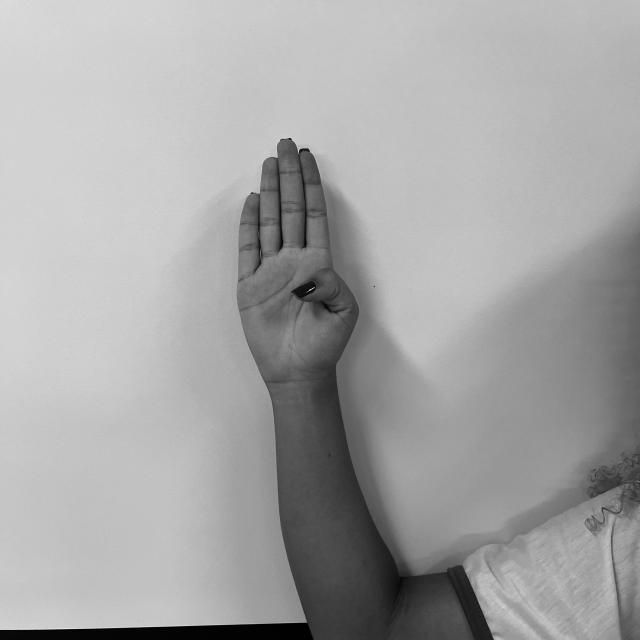Letra B: (231, 131, 364, 376)
